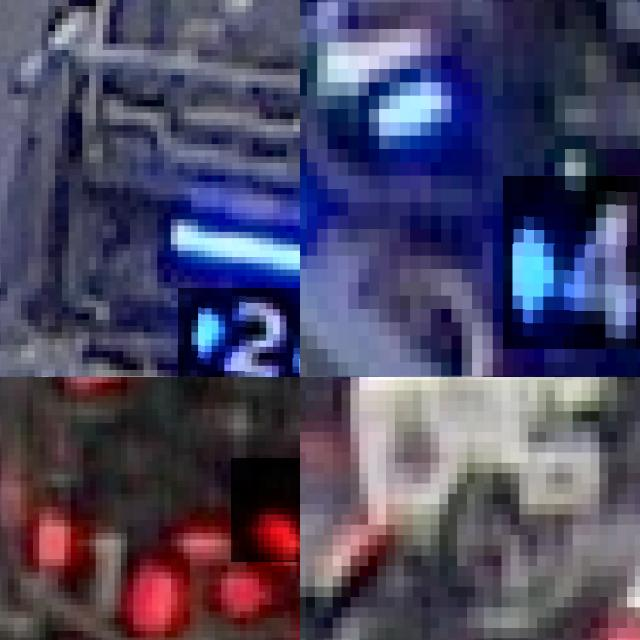B2: (177, 288, 300, 377)
B4: (503, 175, 640, 349)
R1: (2, 500, 190, 638), (230, 457, 300, 562)
